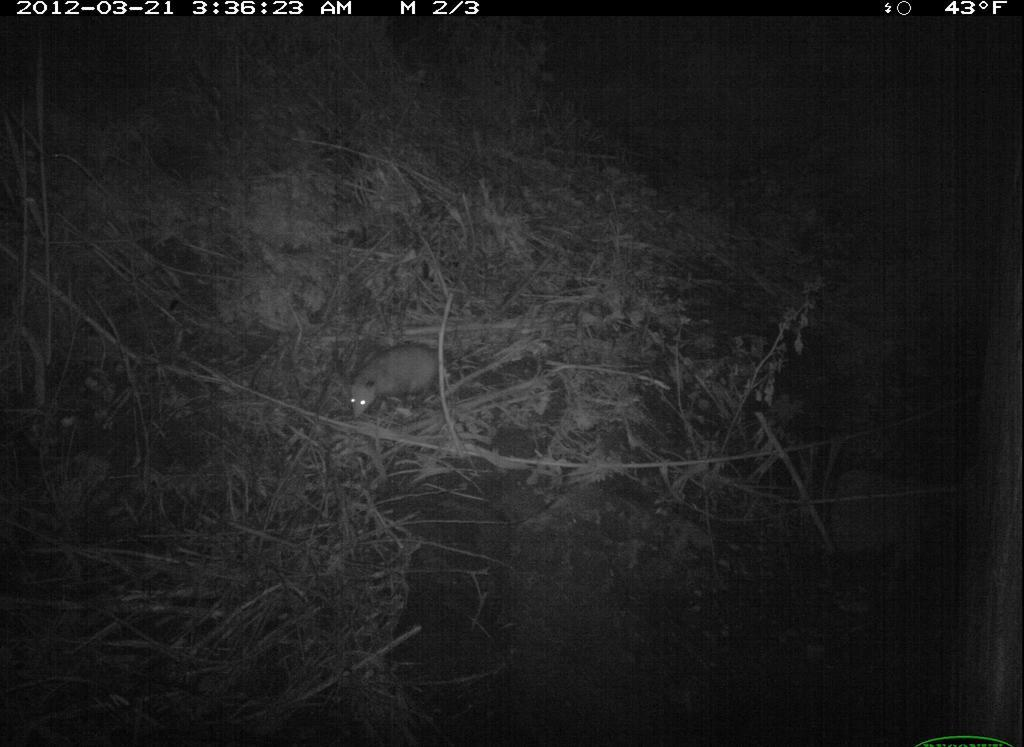opossum: (323, 336, 469, 420)
